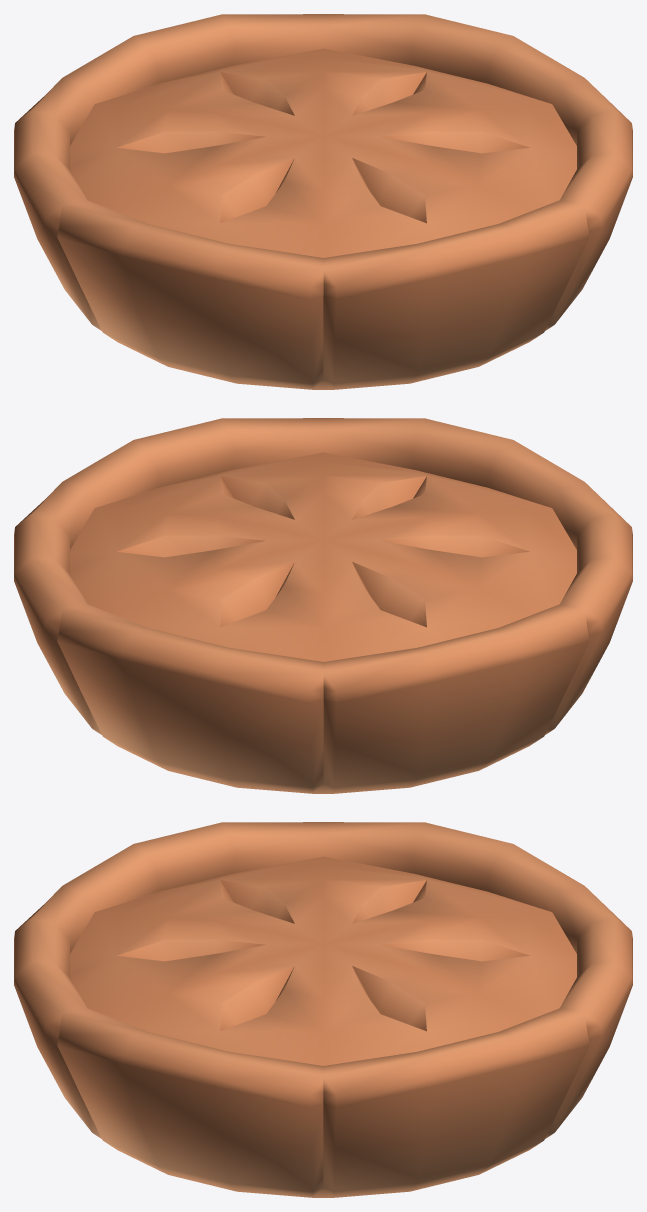
The model's file is pie-apple.glb.
The picture shows the model from 3 angles, top to bottom: view 1: azimuth 30°, elevation 25°; view 2: azimuth 150°, elevation 25°; view 3: azimuth 270°, elevation 25°; orthographic projection.
Visible parts, largest first — view 1: pie_apple; view 2: pie_apple; view 3: pie_apple.
Boxes of the visible parts, <box> form: pie_apple: <box>14,14,632,389</box>; pie_apple: <box>14,418,632,793</box>; pie_apple: <box>14,822,632,1197</box>.
Bounding box in the file's own units: 1.16 × 0.3153 × 1.14.
Materials: 1 (1 with a texture image).
